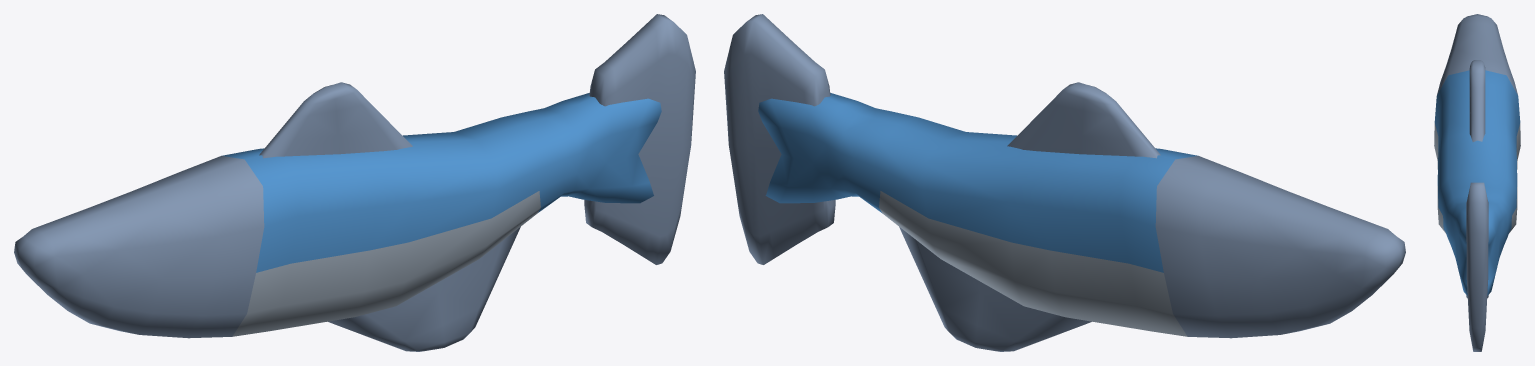
Rendered from Prop_Fish_Mackerel.glb.
3 views of the same model, side by side, from view 1: azimuth 30°, elevation 25°; view 2: azimuth 150°, elevation 25°; view 3: azimuth 270°, elevation 25° (orthographic). The views are drawn at different scales.
Visible parts, largest first — view 1: Prop_Fish_Mackerel; view 2: Prop_Fish_Mackerel; view 3: Prop_Fish_Mackerel.
Boxes of the visible parts, <box> form: Prop_Fish_Mackerel: <box>14,14,695,351</box>; Prop_Fish_Mackerel: <box>724,14,1405,351</box>; Prop_Fish_Mackerel: <box>1434,14,1520,351</box>.
Bounding box in the file's own units: 1.56 × 0.6294 × 0.2495.
1 material, 1 textured.
